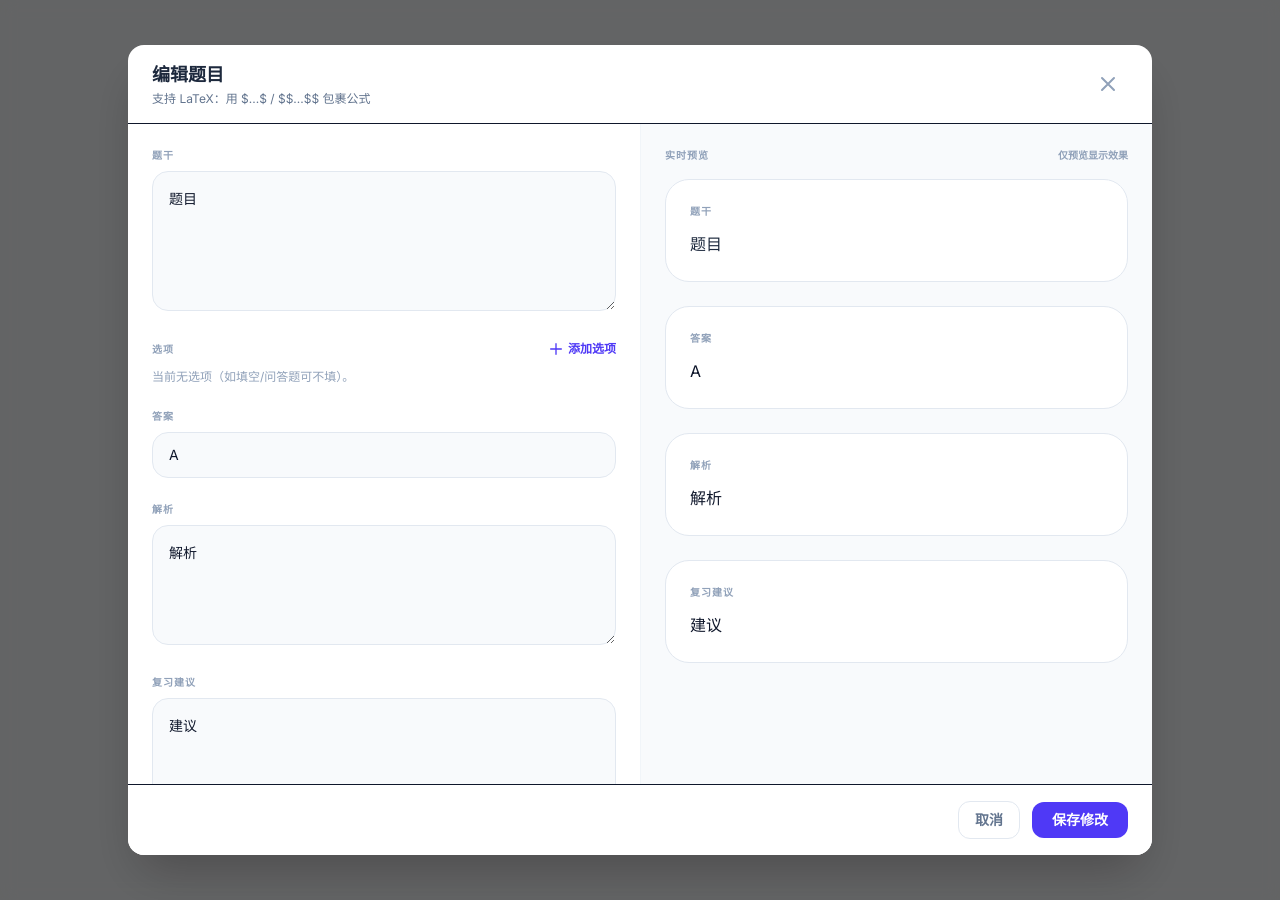
it: QuestionEditDialog › shows success toast after saving
This screenshot has width=1280, height=900.
Click the button "保存修改": (1080, 820) [1032, 802, 1128, 838]
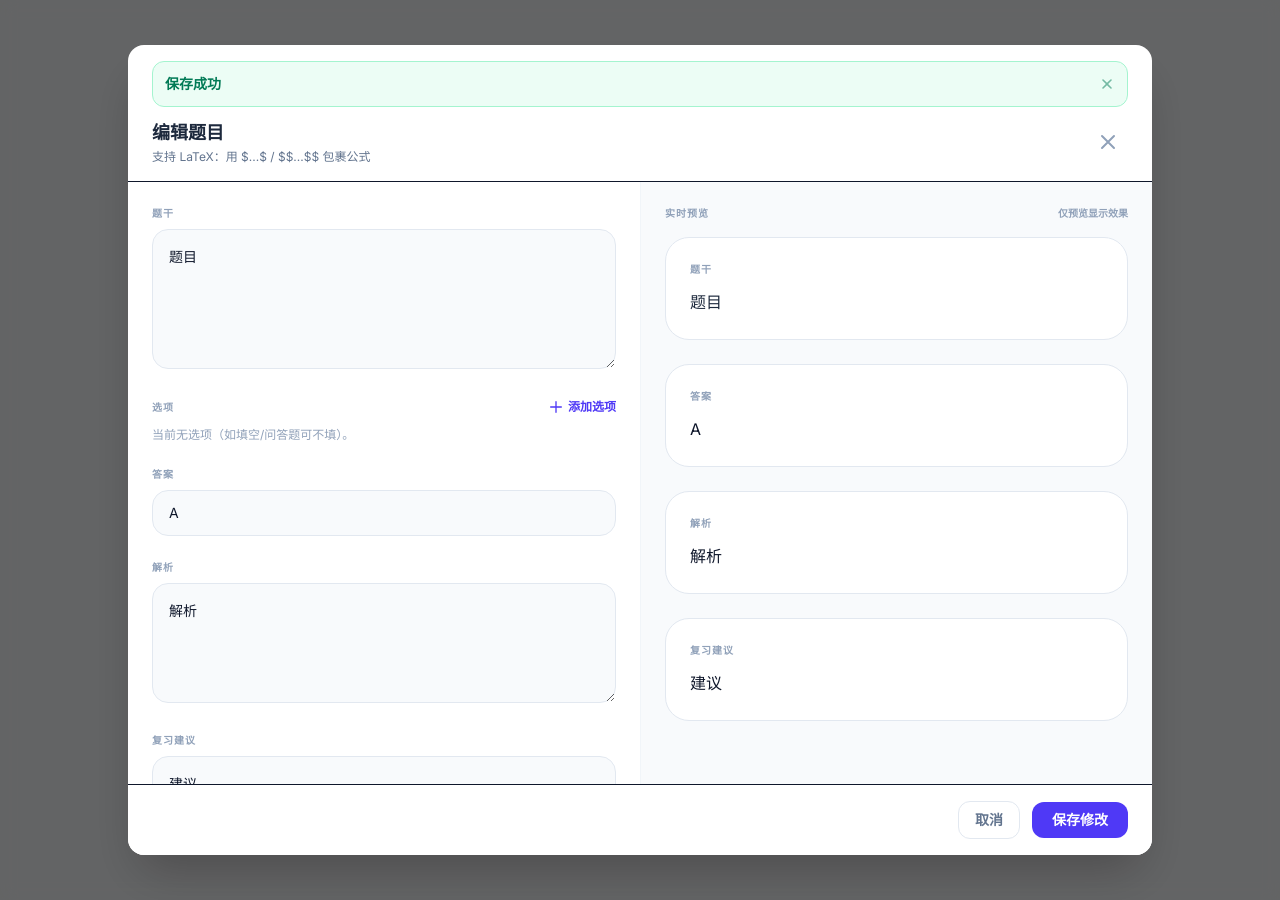
Result: the text "保存成功" is shown at [165, 74, 221, 94]
